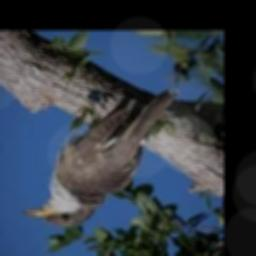Cuckoo: (24, 90, 180, 227)
